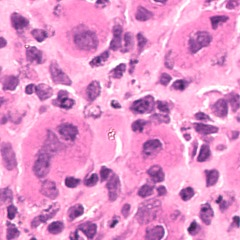New: (165, 9, 237, 73), (50, 1, 113, 60), (125, 122, 185, 177), (137, 205, 186, 239)
